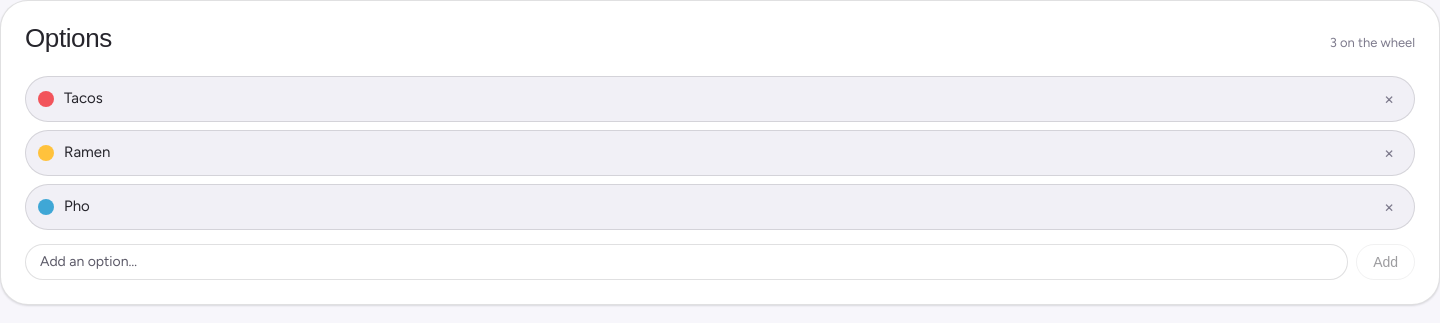
Test case: adding an option › does not put a failed label over something newer
The width and height of the screenshot is (1440, 323).
Click the field labelled "Add an option" at (687, 262), box [25,244,1348,280]
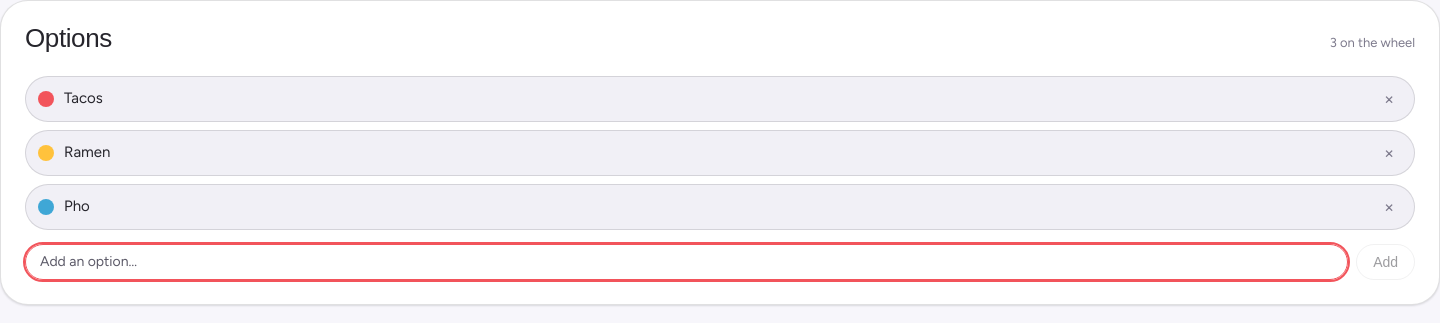
Type keys "Pizza{Enter}"
Type keys "Sushi"
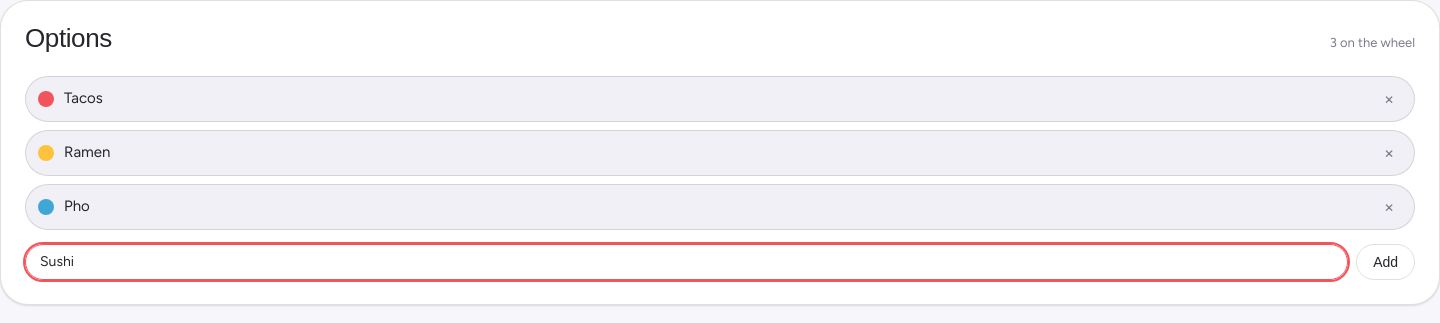
Result: the field named "Add an option" holds "Sushi" at [25,244,1348,280]
